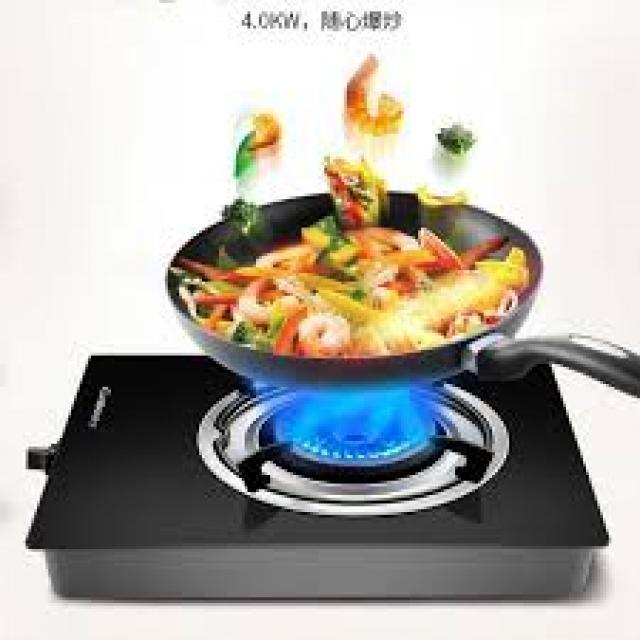Flame: (255, 380, 443, 473)
Pan: (162, 195, 640, 398)
